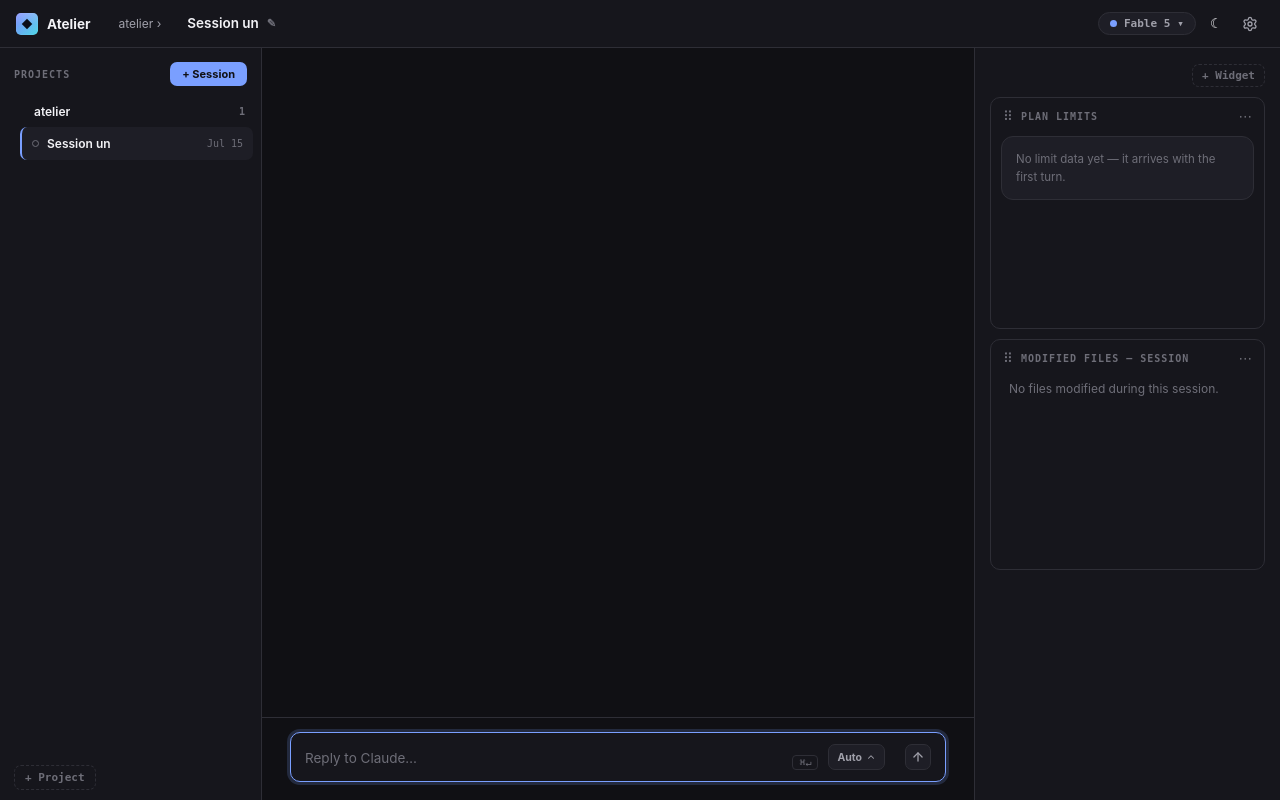
App question QCM (ask user question) › le tour fixture affiche la carte QCM ; répondre la fige sur « Répondu »
Expected: the button with aria-label "rename the session “session un”" is shown, [187, 15, 276, 31]
In the text box labelled "Reply to Claude": (544, 759) [305, 748, 782, 770], type "Quelle est la suite ?"
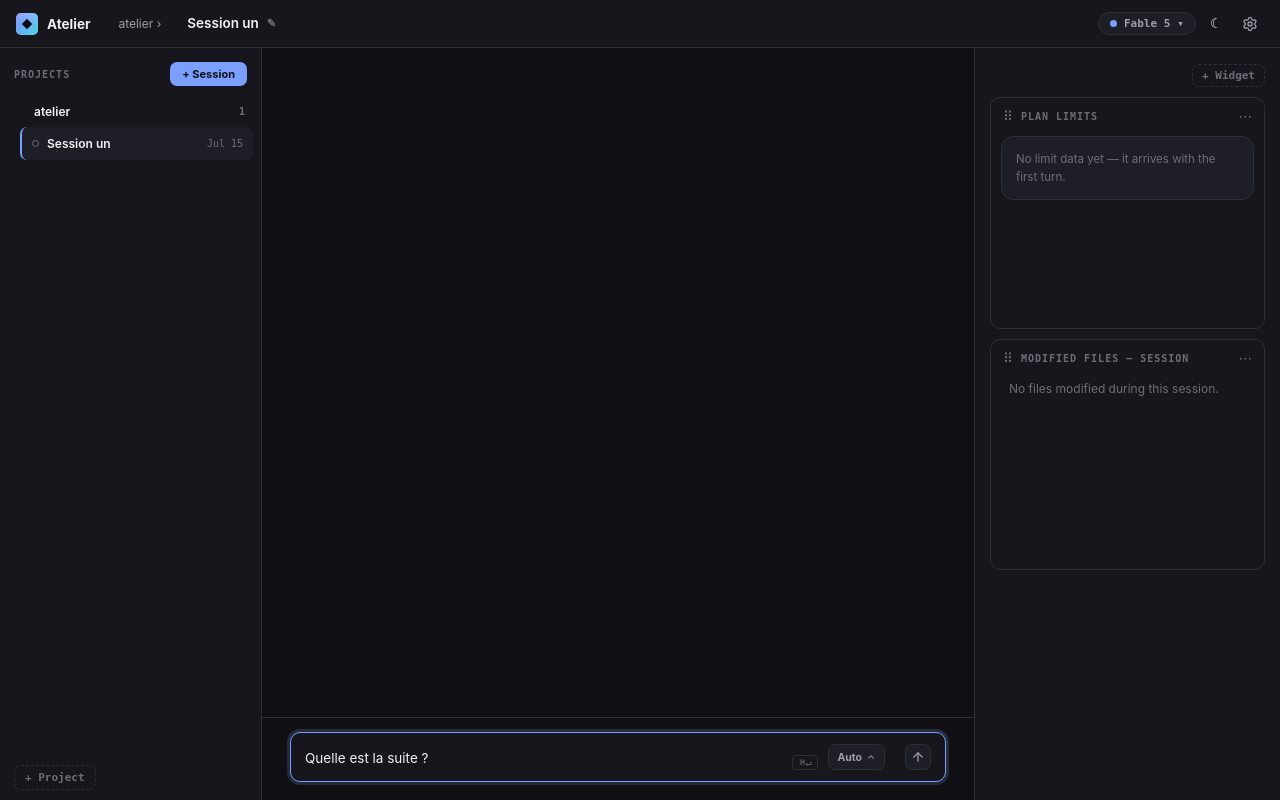
Press Enter in the text box named "Reply to Claude", box [305, 748, 782, 770]
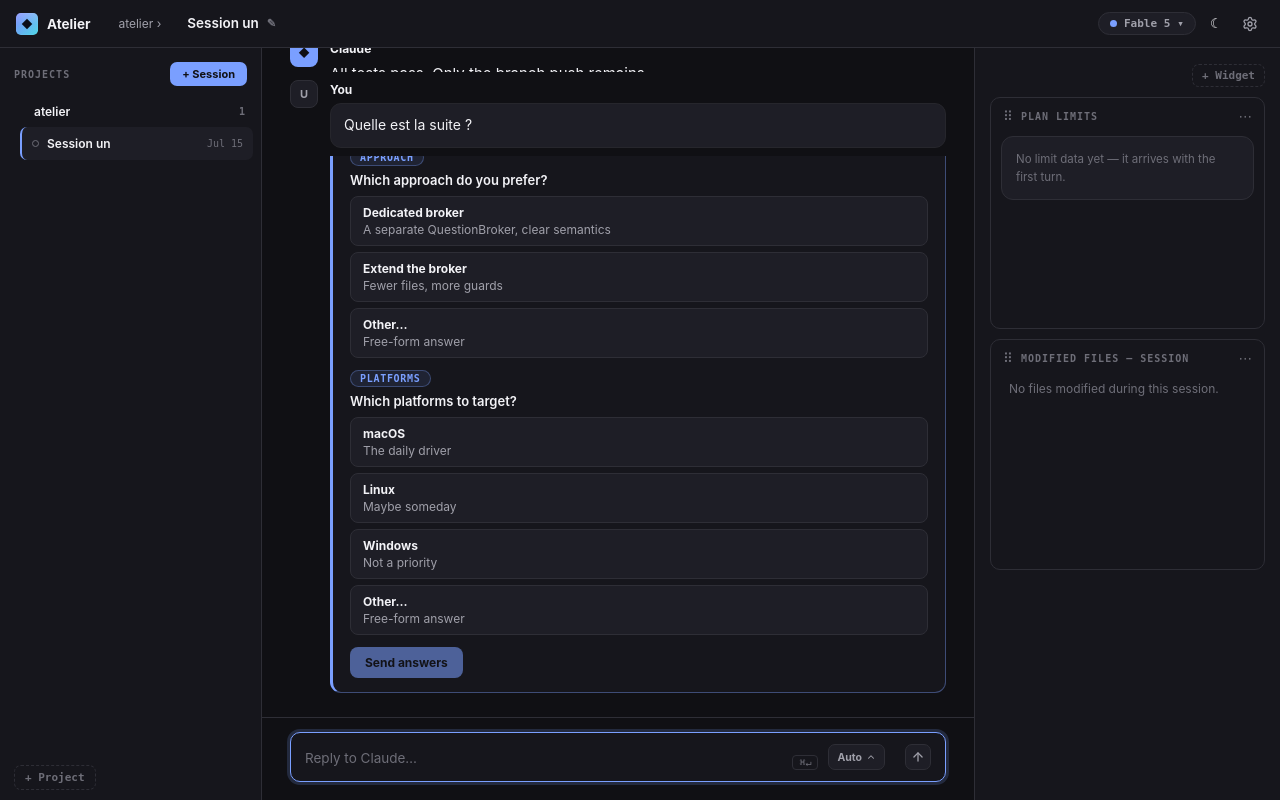
Expected: the text "Which approach do you prefer?" is shown, [350, 172, 548, 188]
// Deux questions → pas d'envoi direct : une option par question, puis Envoyer.
Click the button "Dedicated broker A separate QuestionBroker, clear semantics": (413, 212) [350, 196, 928, 246]
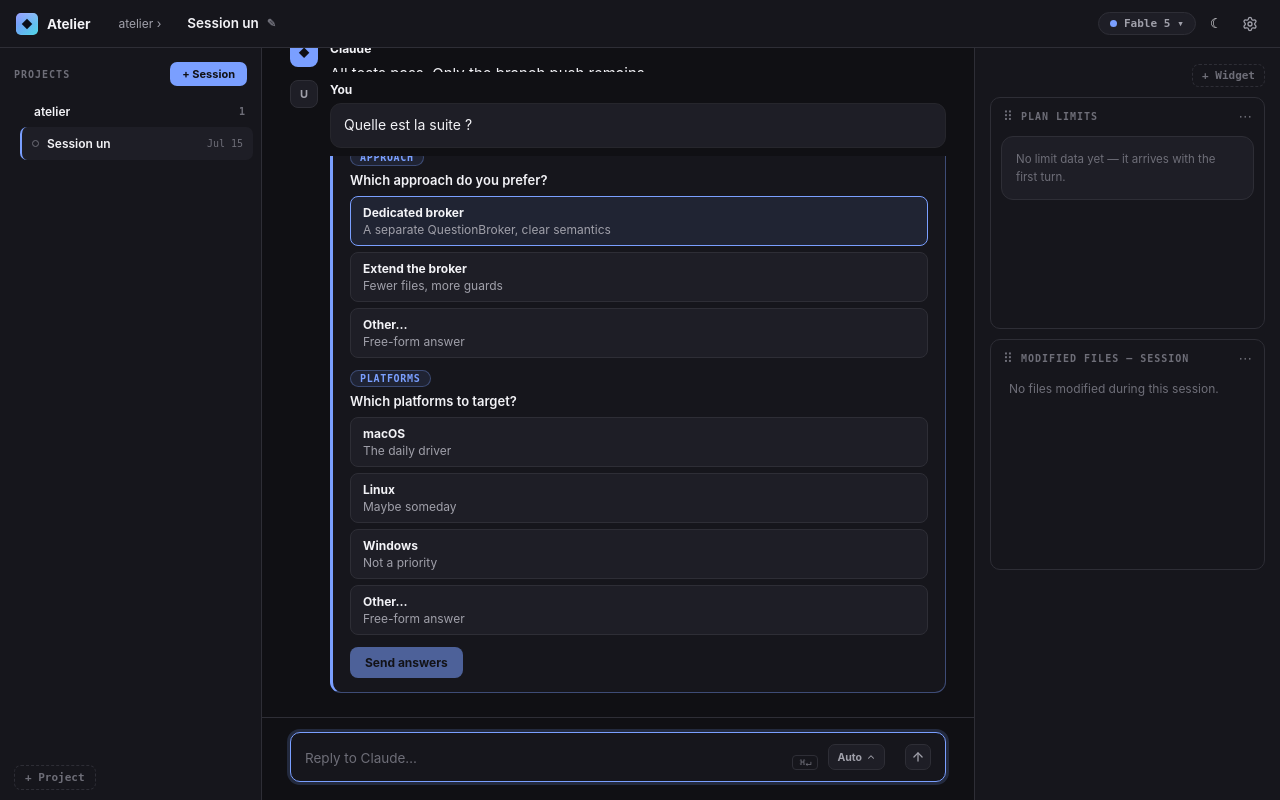
Click the button "macOS The daily driver": (384, 433) [350, 417, 928, 467]
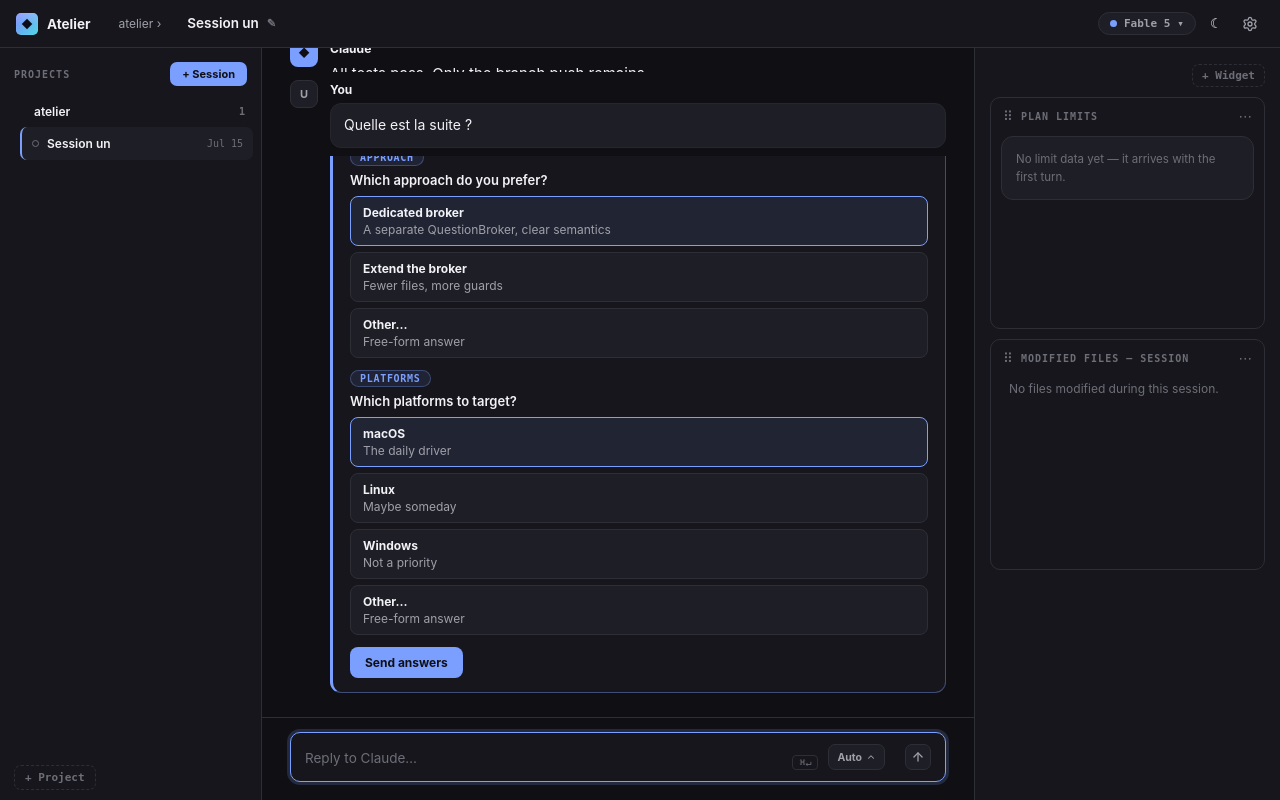
Click the button "Send answers": (406, 662) [350, 647, 463, 678]
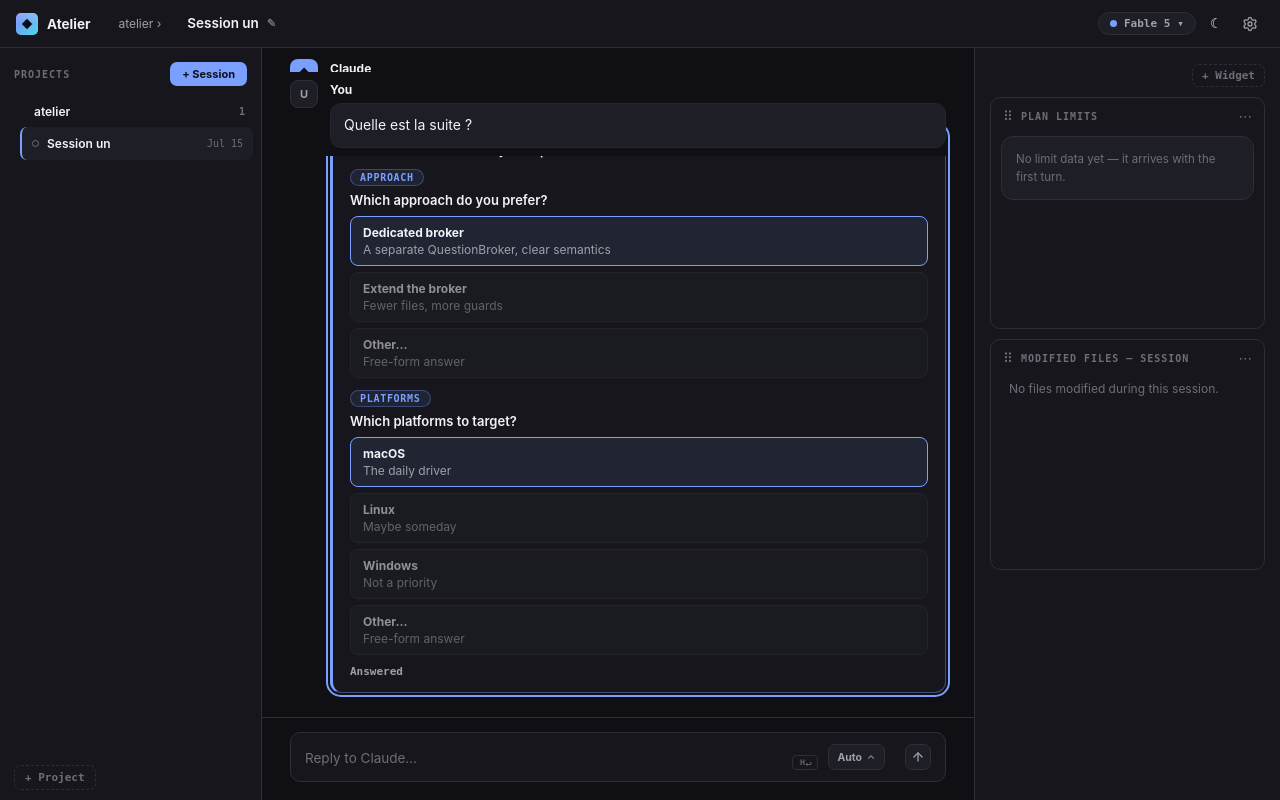
Expected: the text "Answered" is shown, [350, 665, 403, 678]
